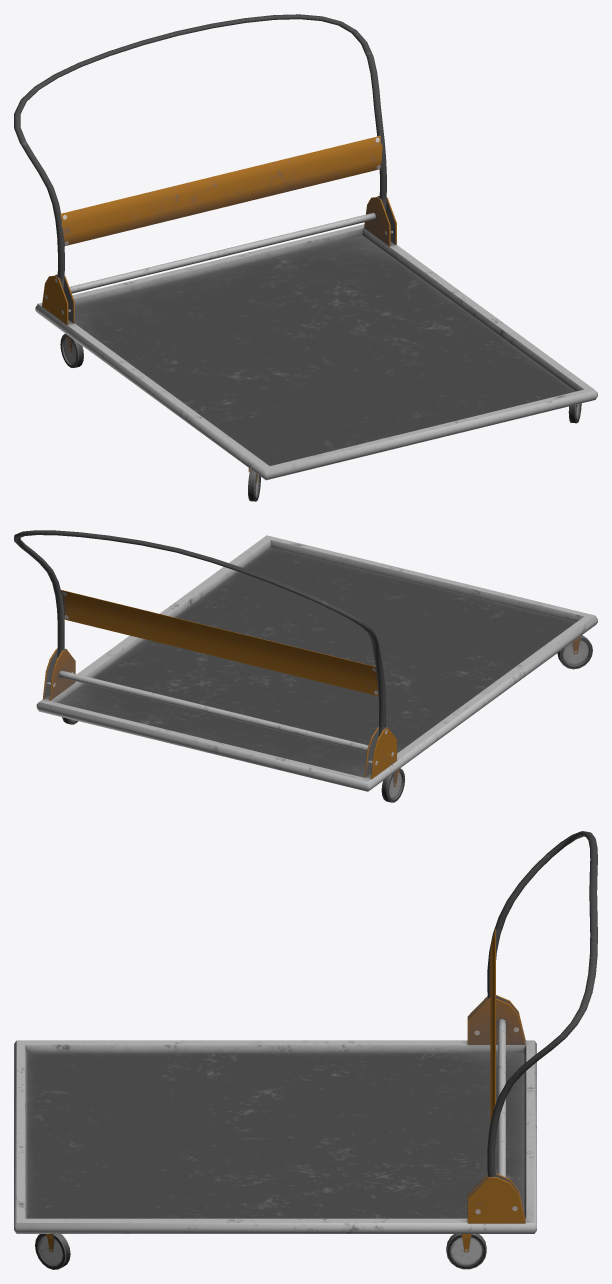
Rendered from cart.obj.
3 views of the same model, one above another, from view 1: azimuth 30°, elevation 25°; view 2: azimuth 150°, elevation 25°; view 3: azimuth 270°, elevation 25° (orthographic). The views are drawn at different scales.
Parts seen in each view (by area): view 1: Plane112; view 2: Plane112; view 3: Plane112.
Boxes of the visible parts, <box> form: Plane112: <box>14,14,597,501</box>; Plane112: <box>14,530,597,802</box>; Plane112: <box>14,831,597,1269</box>.
Size of the model in its own units: 1.15 by 0.7905 by 1.45.
1 material, 1 textured.
